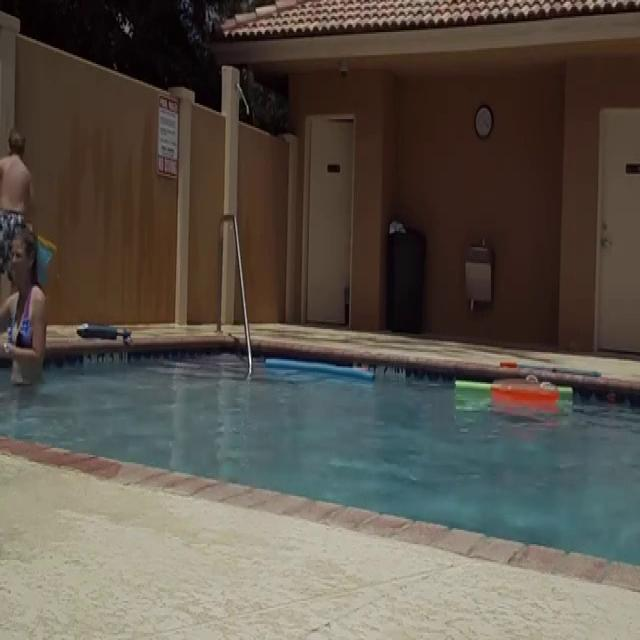adult: (0, 230, 49, 406)
child: (0, 128, 41, 311)
